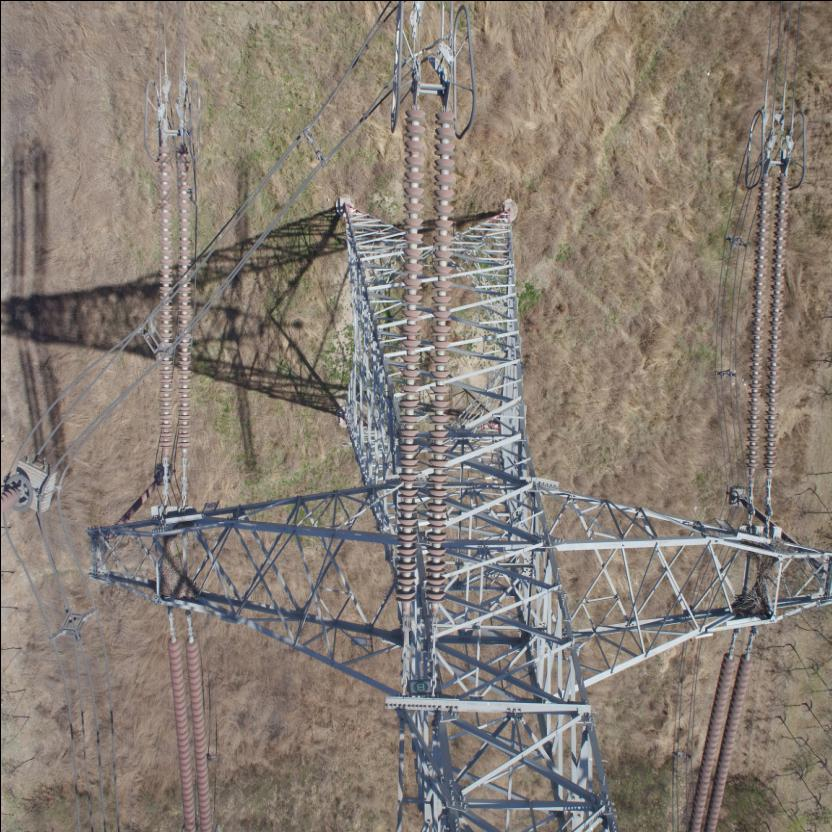insulator: (388, 98, 461, 628), (741, 170, 796, 494), (683, 642, 759, 831), (159, 618, 219, 832), (154, 149, 194, 463)
